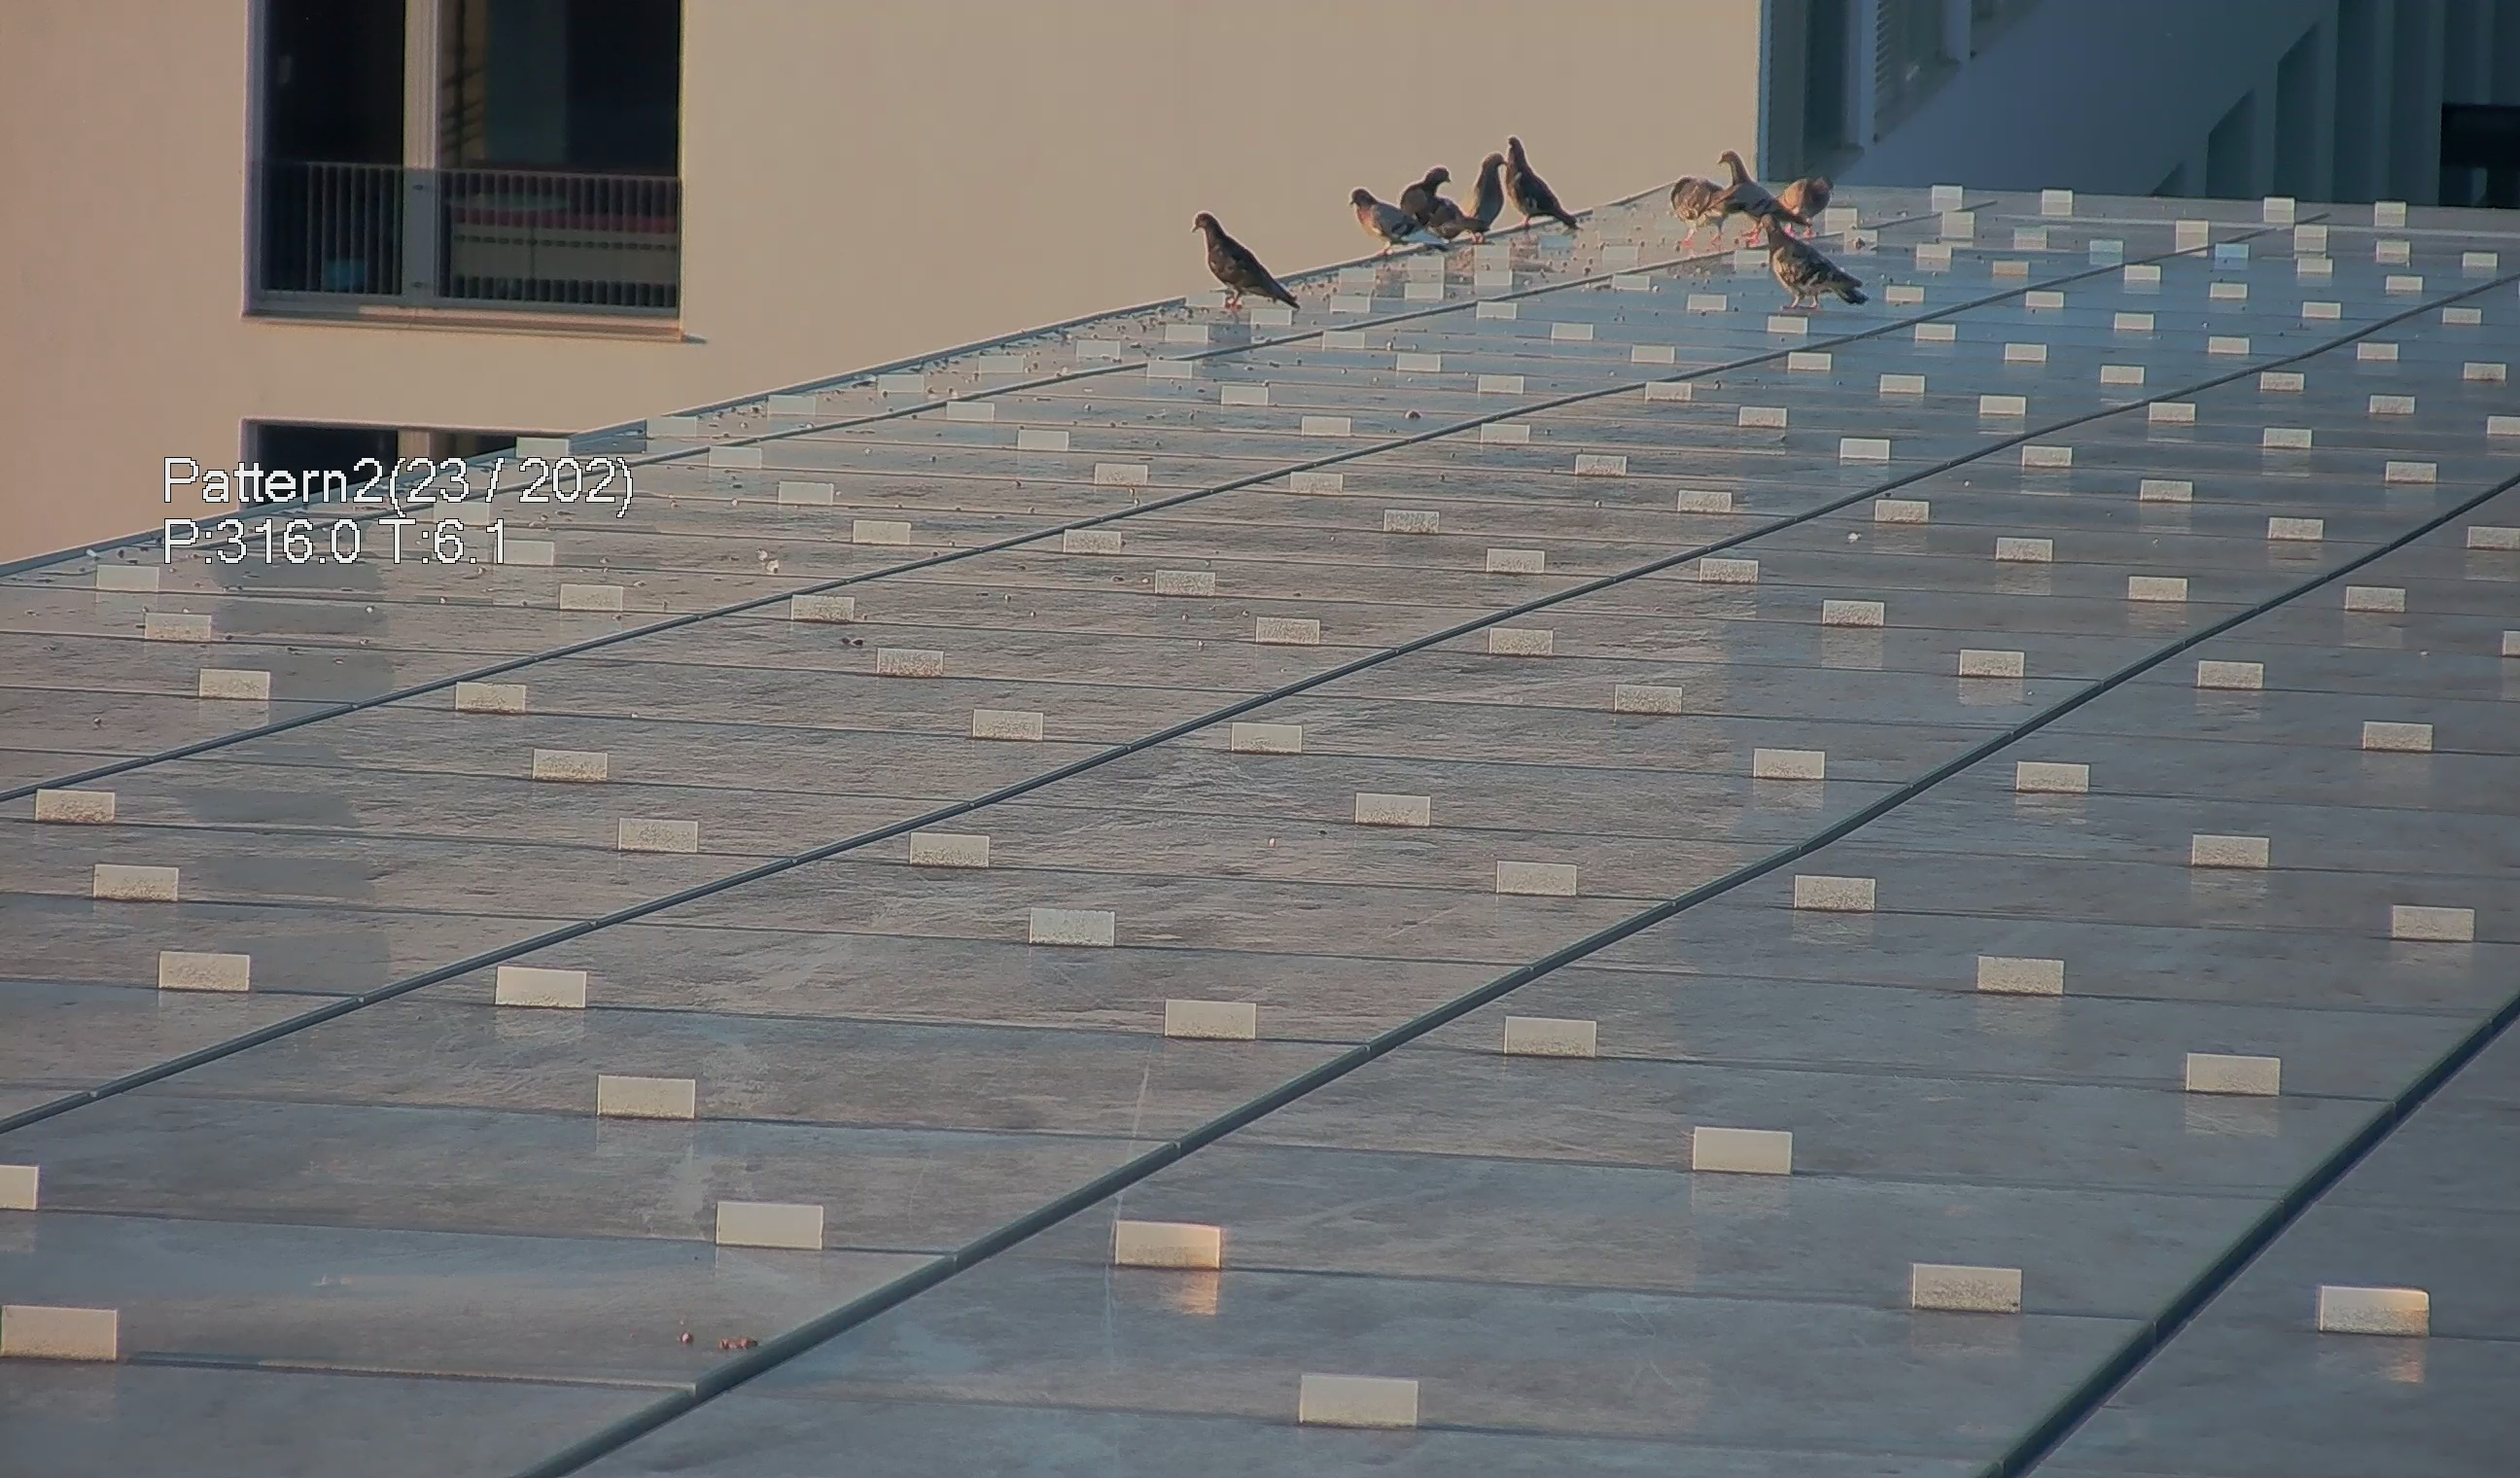Pigeon: (1185, 197, 1308, 317), (1750, 215, 1889, 320), (1498, 134, 1583, 230), (1402, 167, 1491, 246), (1347, 187, 1447, 253), (1662, 172, 1746, 246), (1725, 150, 1806, 223), (1447, 157, 1507, 243), (1766, 171, 1846, 234)
